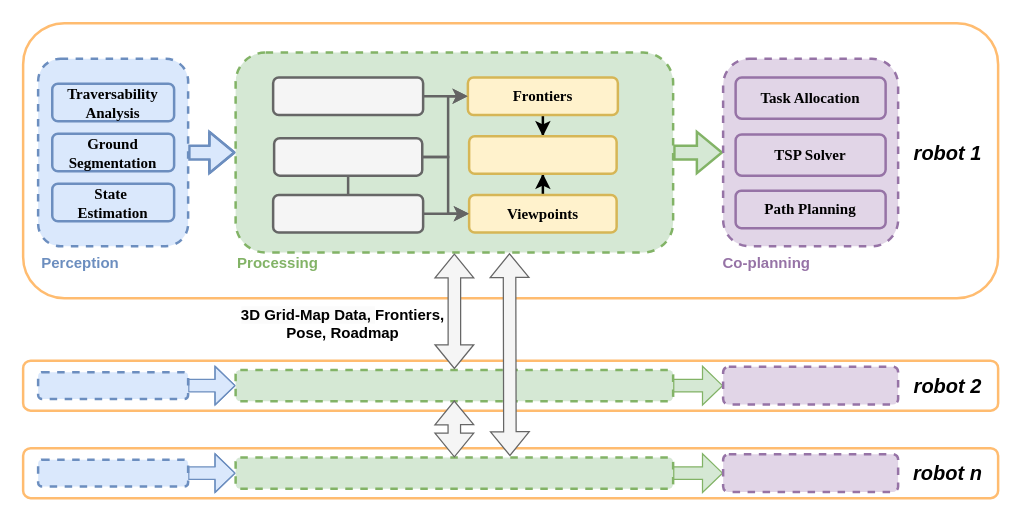
Image size: 1020x520. Some labels were removed from this diagram. The shapes that lost their labels are listed below. From the top down, each one's box as (x1, y1, x2, y2) in pixels, then its label:
(271, 76, 424, 116): 3D Grid-Map
(272, 136, 423, 176): Roadmap
(467, 134, 617, 174): Gain Evaluation
(271, 193, 424, 233): Terrain-Map
